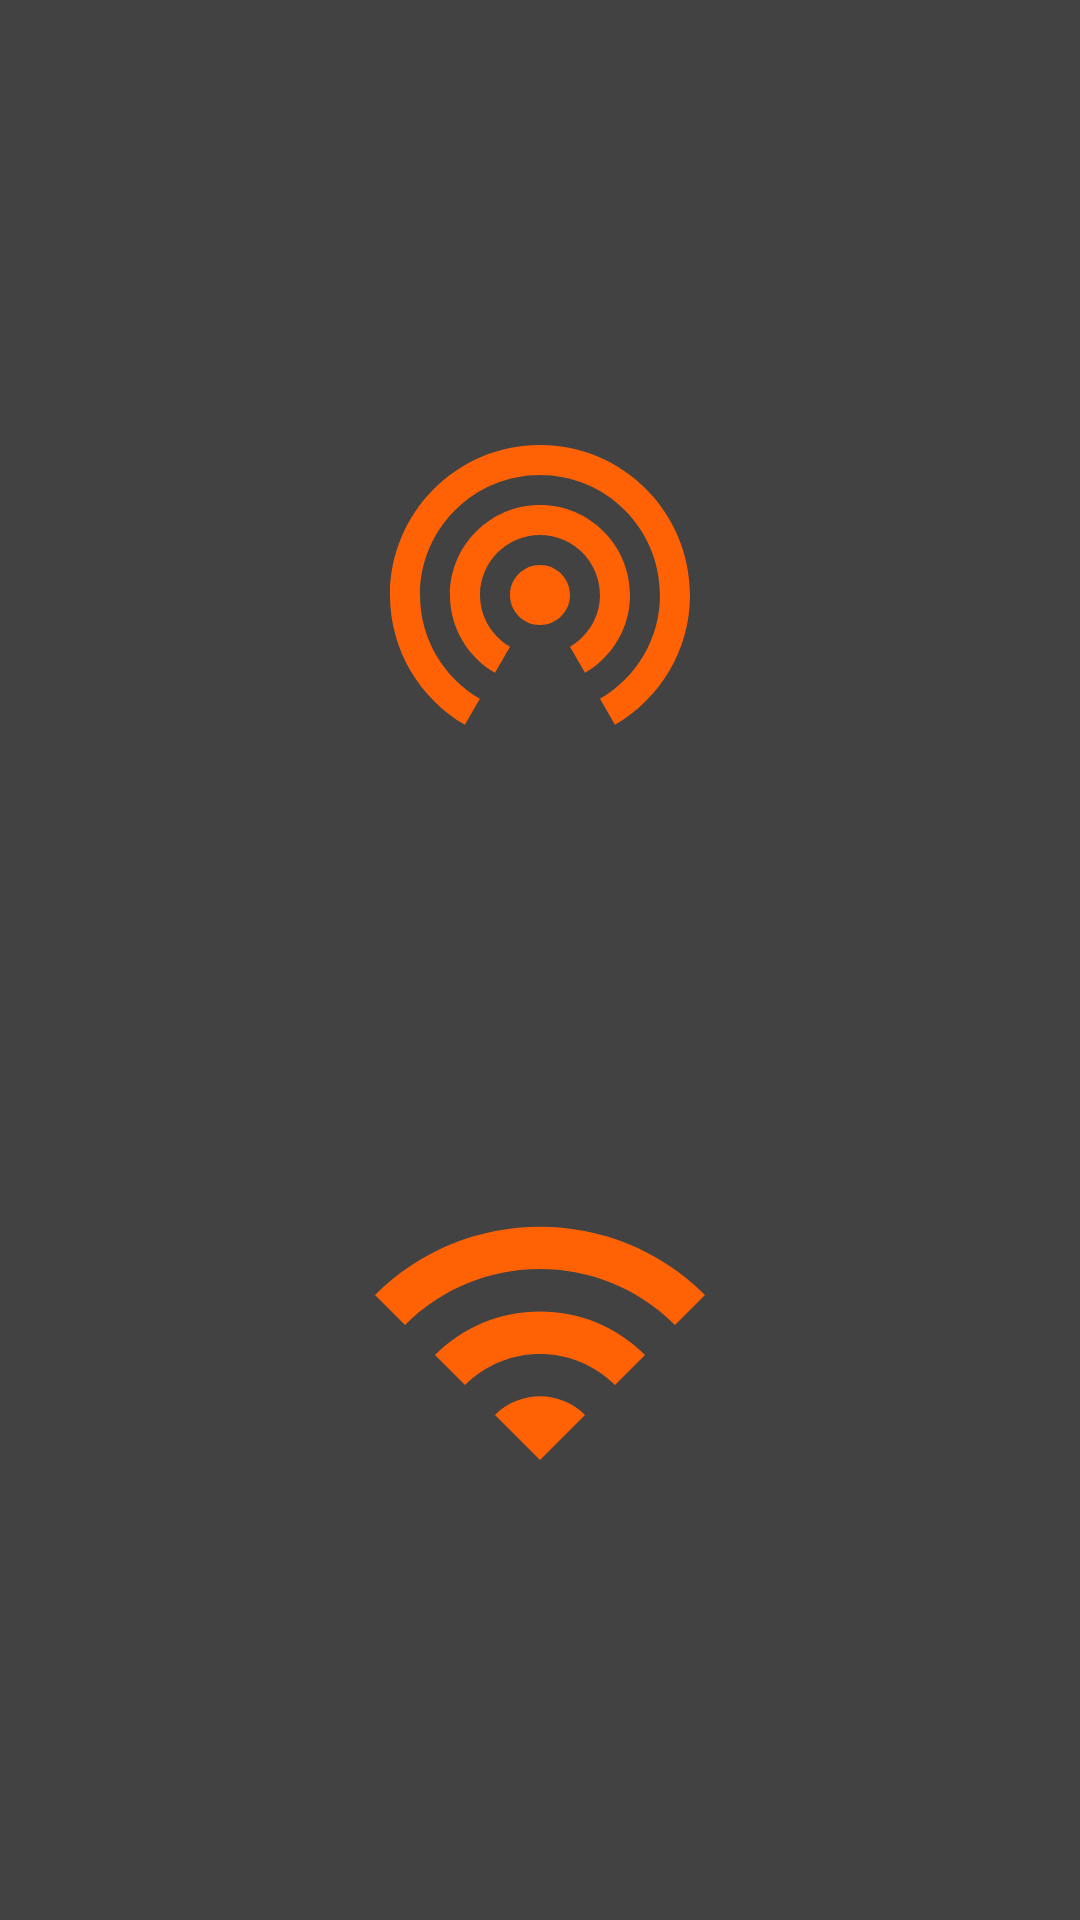

Icon bounding boxes for this 1080*1920 phone screenshot, format (x1, y1, x2, y2):
client: (375, 1226, 705, 1460)
host: (390, 445, 690, 725)
